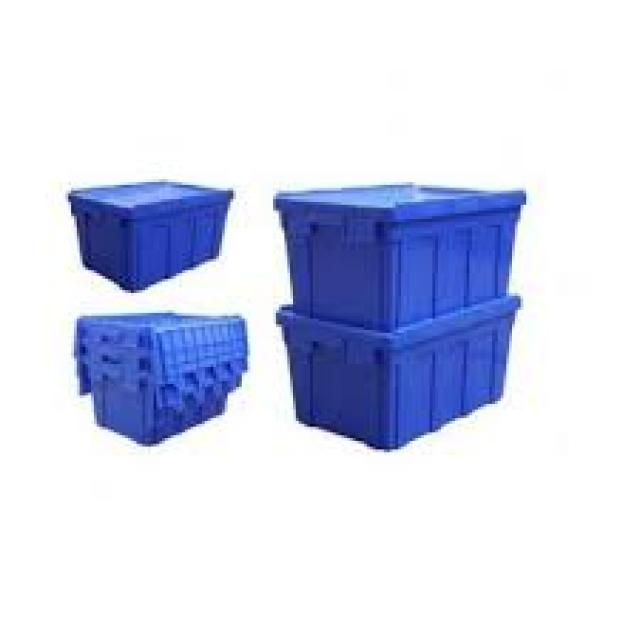basket: (278, 294, 530, 455), (271, 181, 529, 337), (77, 316, 247, 447), (67, 172, 242, 298)
